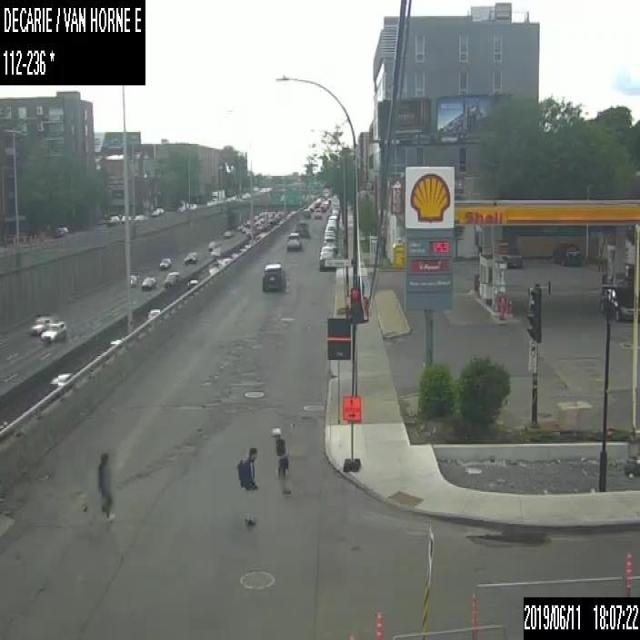construction: (340, 392, 362, 470), (470, 586, 478, 639), (374, 605, 386, 639), (625, 552, 631, 596)
pedestrian: (236, 445, 261, 523), (96, 453, 115, 520), (272, 426, 290, 494)
vehicle: (600, 286, 639, 320), (261, 261, 285, 291), (552, 242, 581, 265), (40, 320, 65, 341), (28, 314, 52, 335), (499, 245, 522, 266), (49, 371, 73, 389), (318, 250, 335, 271), (102, 336, 122, 352), (144, 306, 161, 322), (162, 271, 179, 287), (285, 232, 300, 250), (49, 225, 68, 238), (140, 275, 155, 289), (104, 214, 120, 227), (295, 221, 308, 236), (322, 240, 337, 252), (319, 246, 336, 256), (184, 251, 197, 264), (174, 200, 187, 212), (185, 276, 198, 288), (323, 229, 336, 241), (210, 189, 224, 199), (158, 257, 170, 268), (128, 273, 138, 286), (150, 206, 162, 216), (210, 246, 221, 256), (324, 222, 336, 231), (133, 213, 146, 221), (120, 214, 131, 223), (222, 227, 232, 236), (186, 202, 195, 211), (313, 208, 321, 218), (302, 208, 310, 217), (319, 202, 326, 210)
